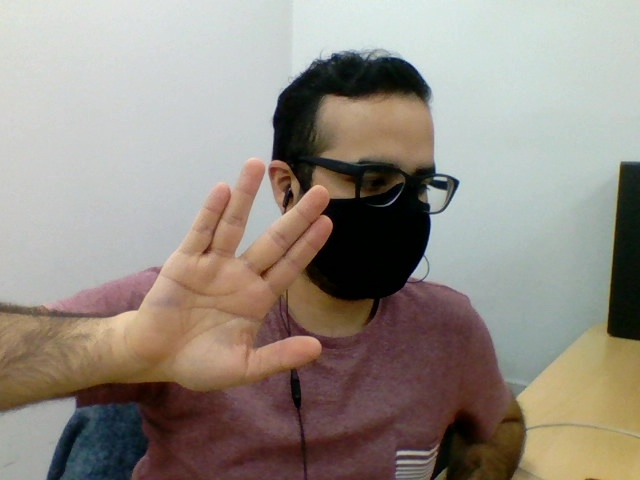LiveLong: (135, 156, 335, 394)
